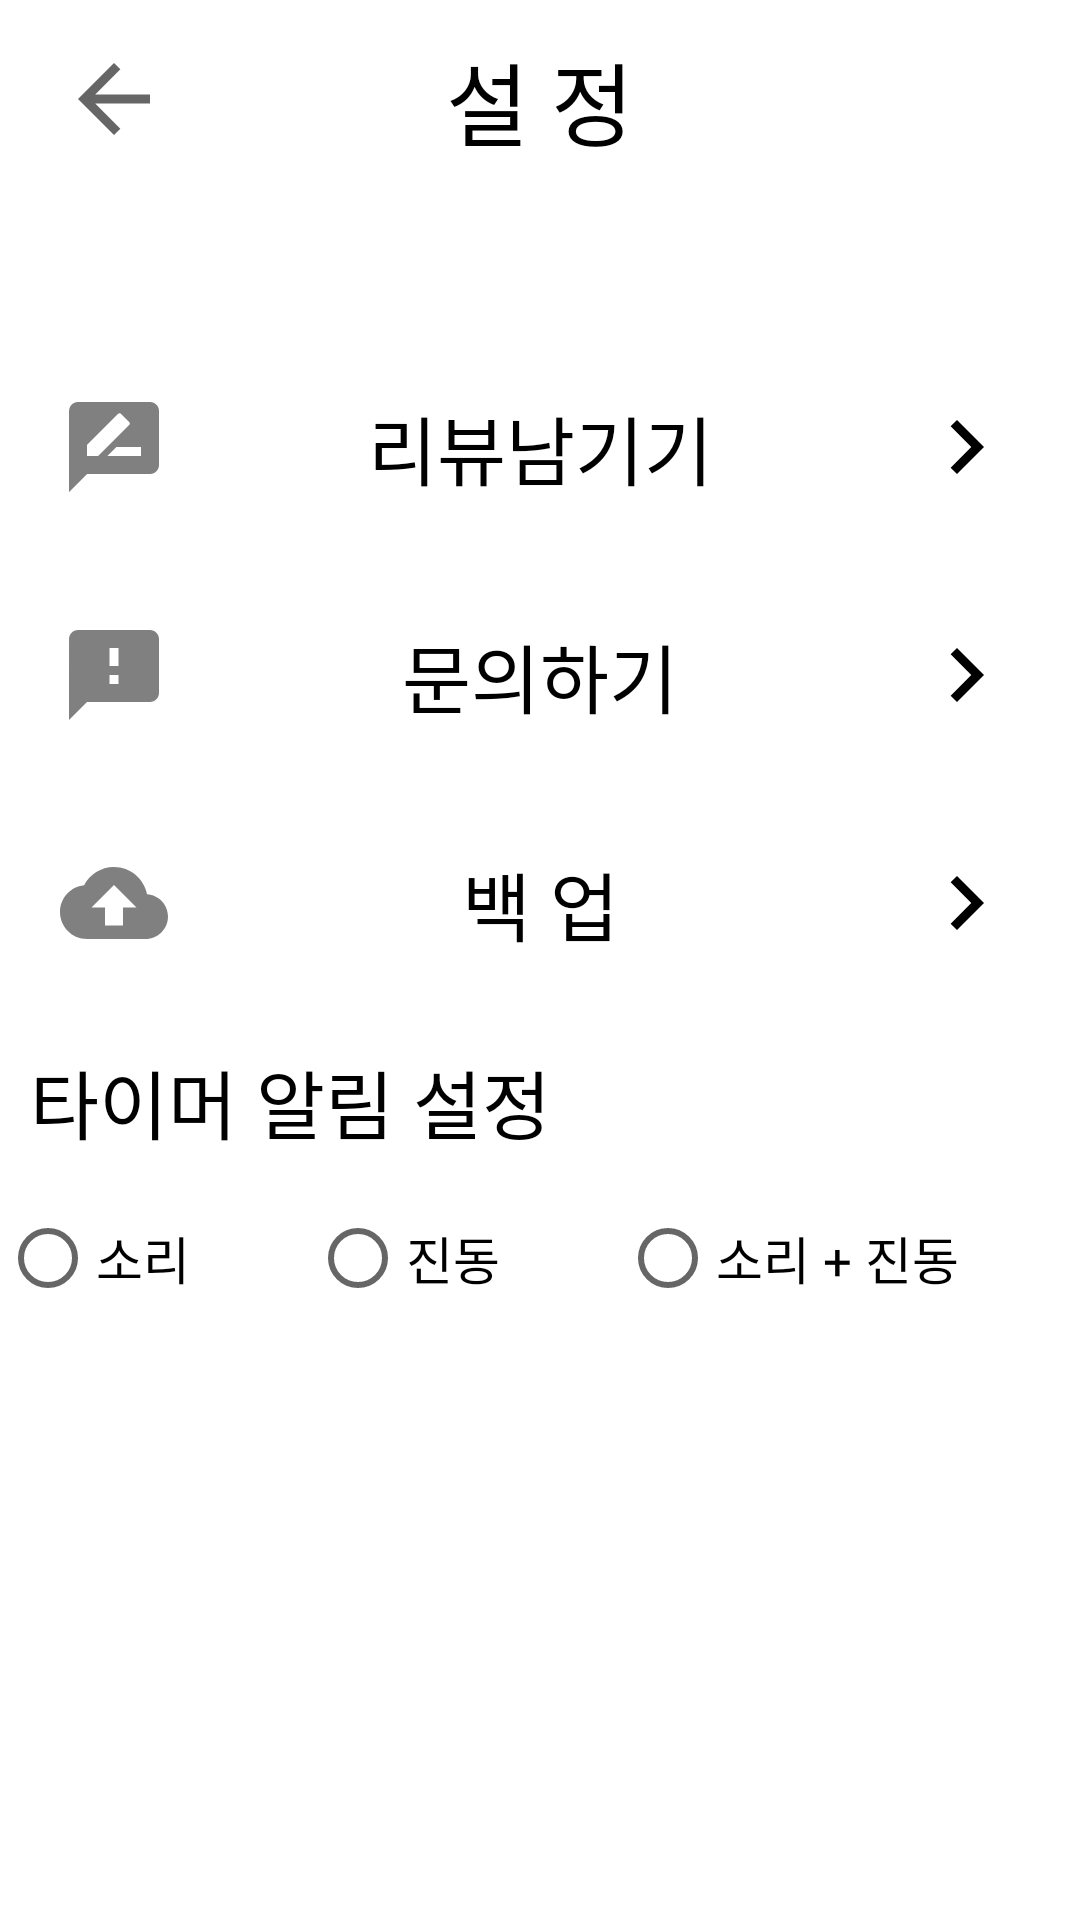

Named icons in this screenshot (1080×1920) and their bounding boxes, (x1, y1, x2, y2):
backup: (60, 867, 168, 939)
feedback: (69, 630, 159, 720)
review: (69, 402, 159, 492)
setting arrow: (950, 420, 984, 474), (950, 648, 984, 702), (950, 876, 984, 930)
뒤로가기: (78, 63, 150, 135)
